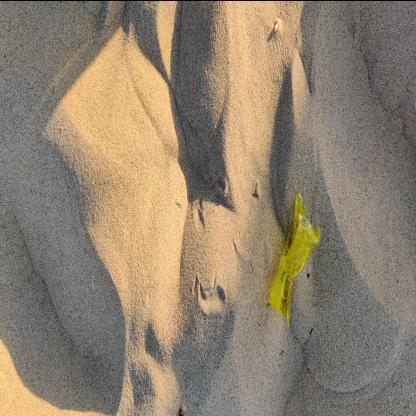plastik: (269, 194, 321, 326)
